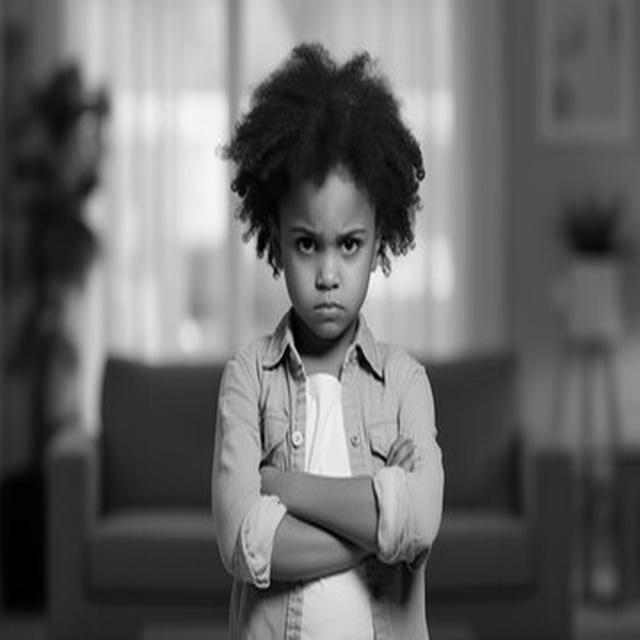Angry: (279, 176, 376, 340)
